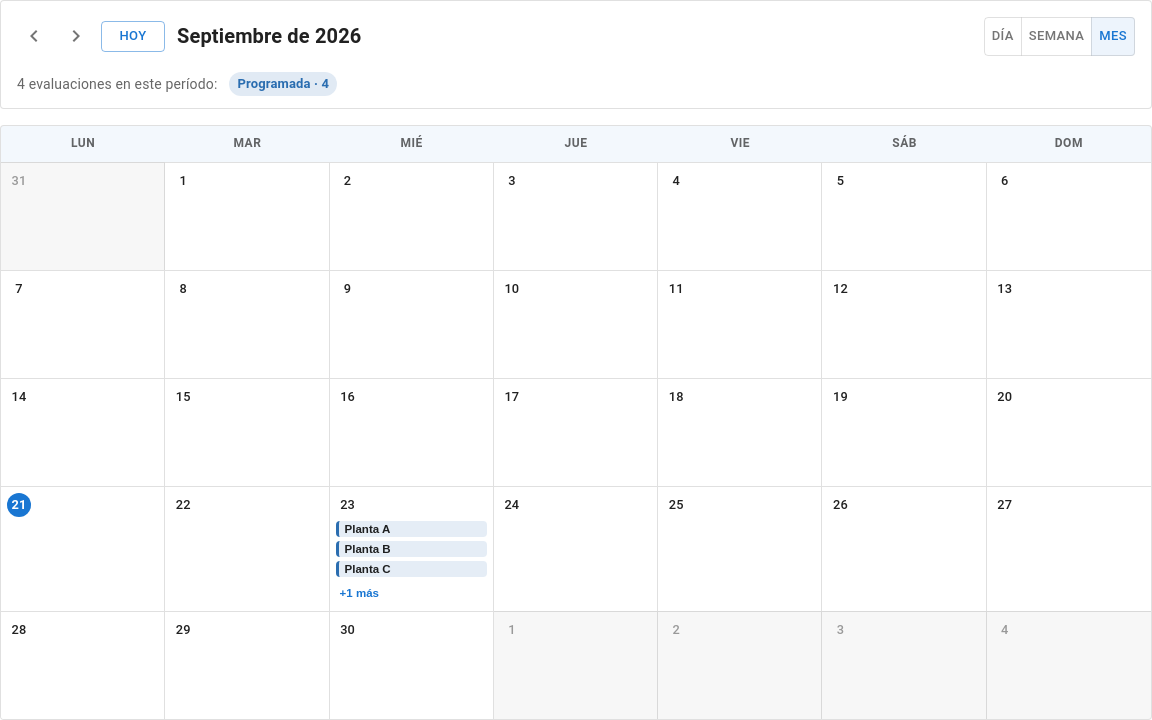
it: CalendarioEvaluador › vista de mes (por defecto) › con más de 3 evaluaciones en un día muestra "+N más" y al tocarlo abre ese día
The image size is (1152, 720).
What coordinates should you click on to do the following:
click the button "+1 más"
I would click on:
 (359, 593)
Its box is [336,587,383,599].
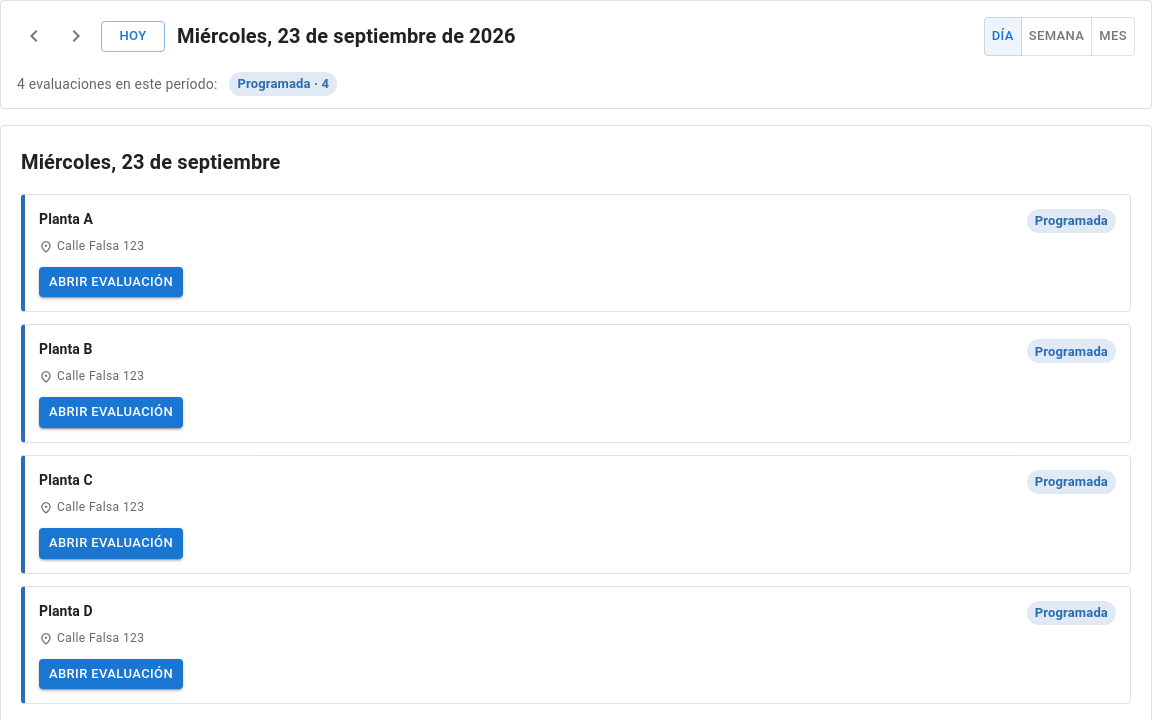
Expected: the number of buttons "Abrir evaluación" is 4, [39,267,183,298]; [39,397,183,428]; [39,528,183,559]; [39,659,183,689]
Now the heading "Miércoles, 23 de septiembre de 2026" is shown, box [177,20,516,52]
